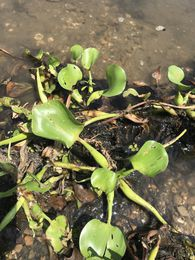water_hyacinth: (0, 42, 194, 258)
